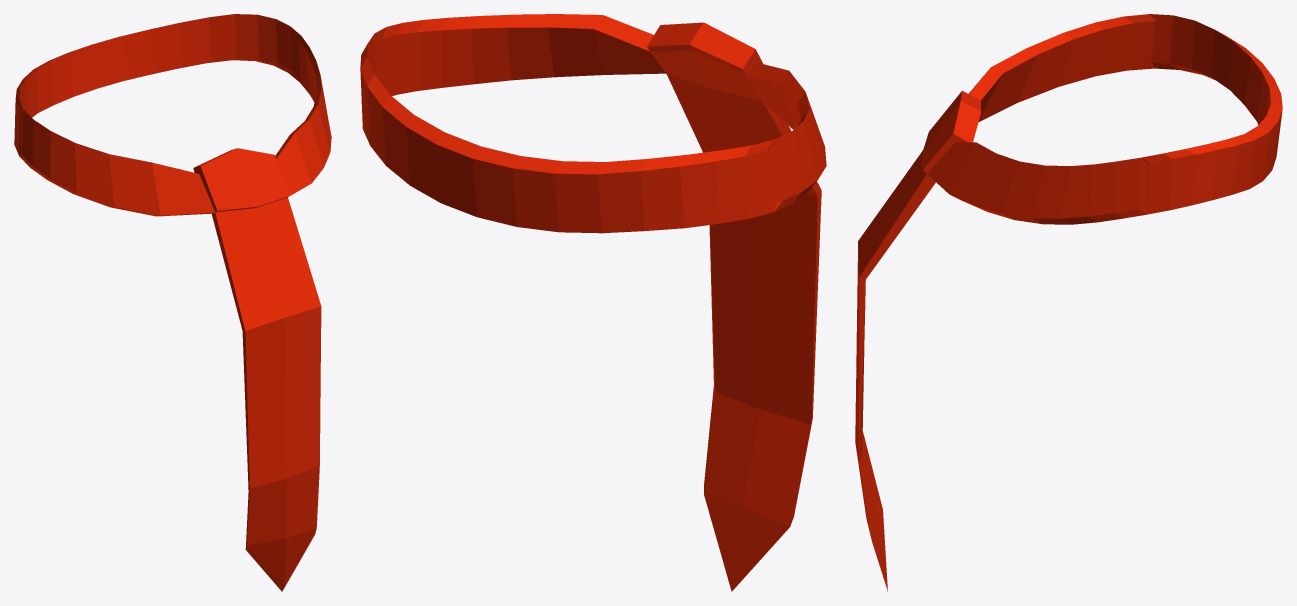
Rendered from Necktiee.fbx.
3 renders of one model, left to right at view 1: azimuth 30°, elevation 25°; view 2: azimuth 150°, elevation 25°; view 3: azimuth 270°, elevation 25°, orthographic. The views are drawn at different scales.
Visible parts, largest first — view 1: Necktie; view 2: Necktie; view 3: Necktie.
Part boxes in pixels (left/top/right/bottom): Necktie: left=14, top=14, right=331, bottom=591; Necktie: left=360, top=14, right=826, bottom=591; Necktie: left=855, top=14, right=1282, bottom=591.
Size of the model in its own units: 101 by 154 by 117.
